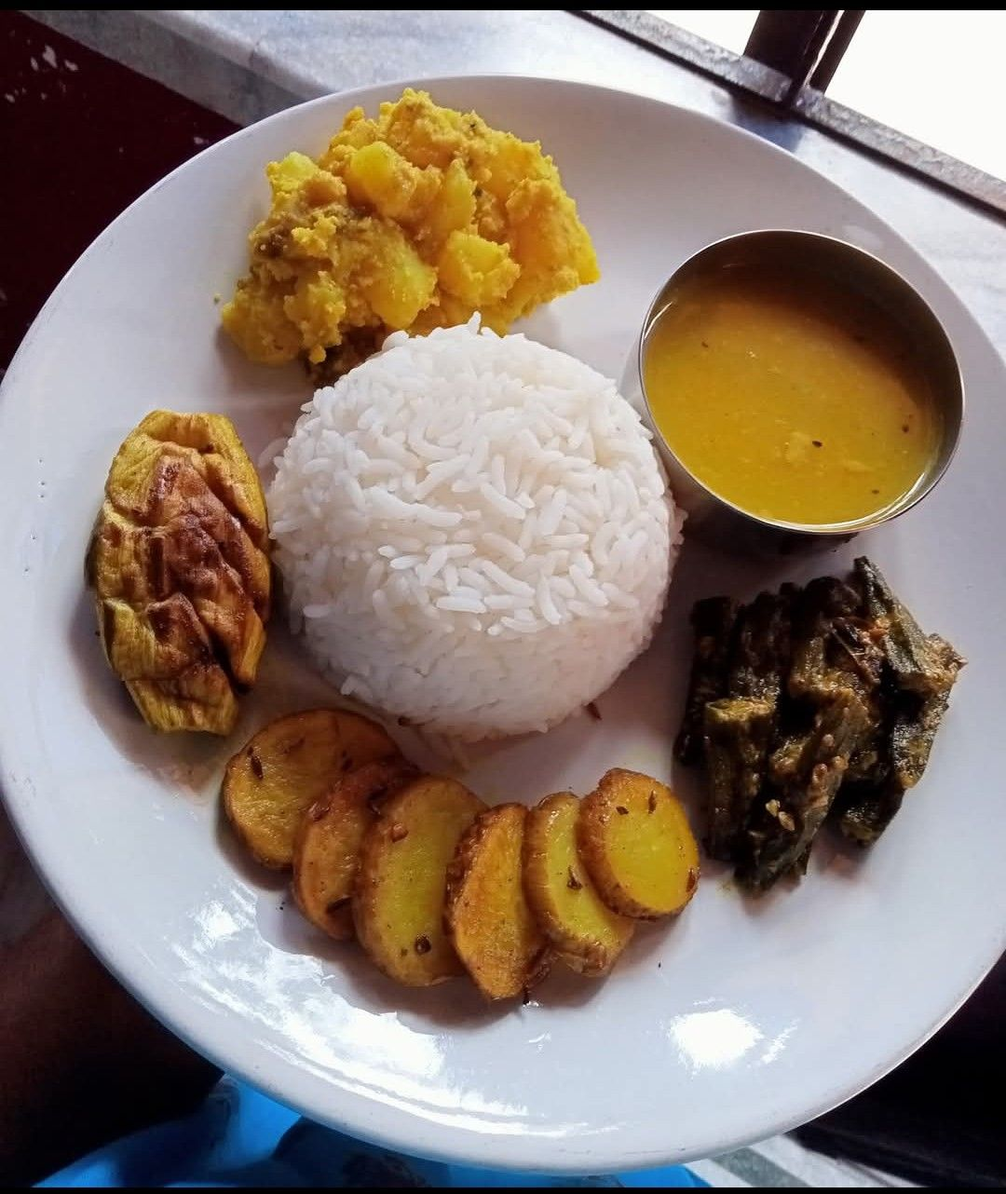bhat: (274, 336, 675, 722)
dal: (659, 267, 949, 512)
sabji: (214, 711, 700, 994), (675, 546, 951, 878), (221, 109, 568, 352)
